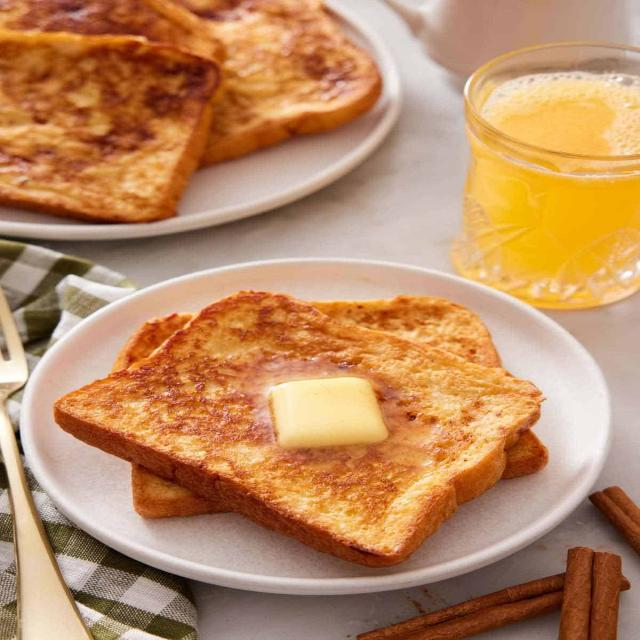Bread: (54, 291, 543, 566), (0, 29, 219, 222), (180, 0, 380, 164)
